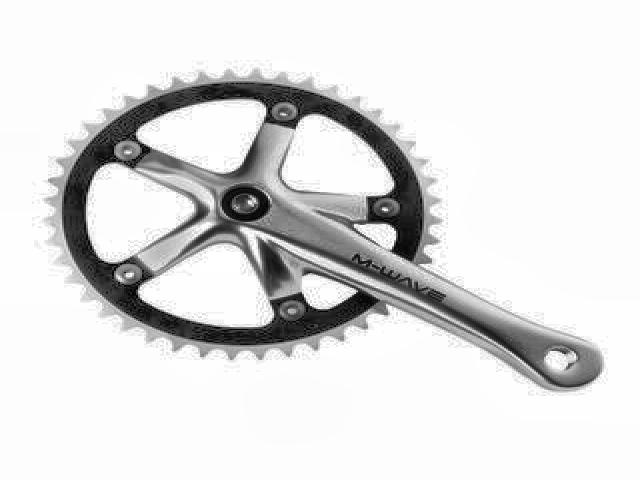cranks_set: (40, 67, 609, 393)
